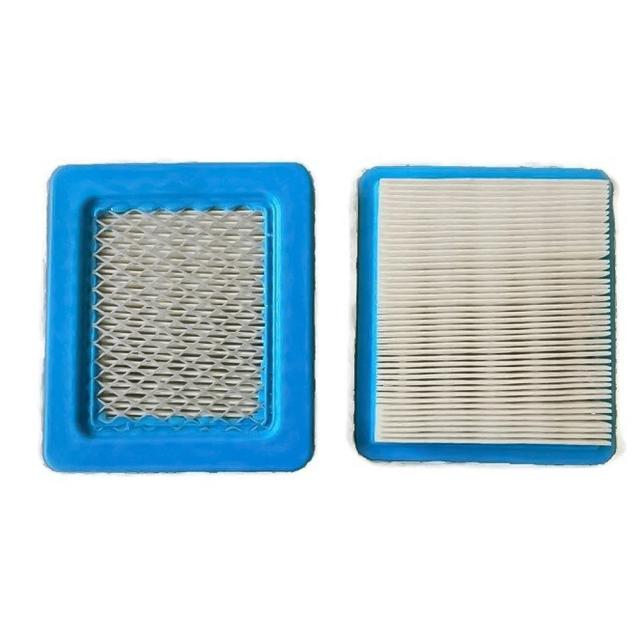air_filter: (38, 156, 326, 483), (345, 152, 626, 476)
